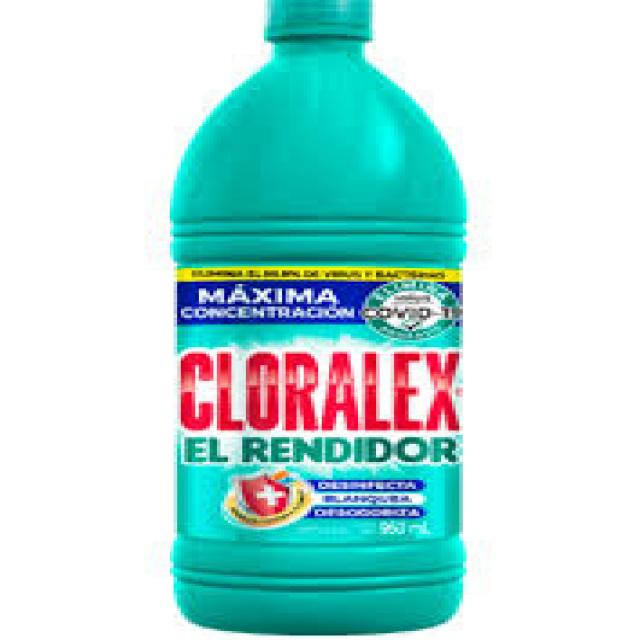Botella: (152, 0, 480, 627)
